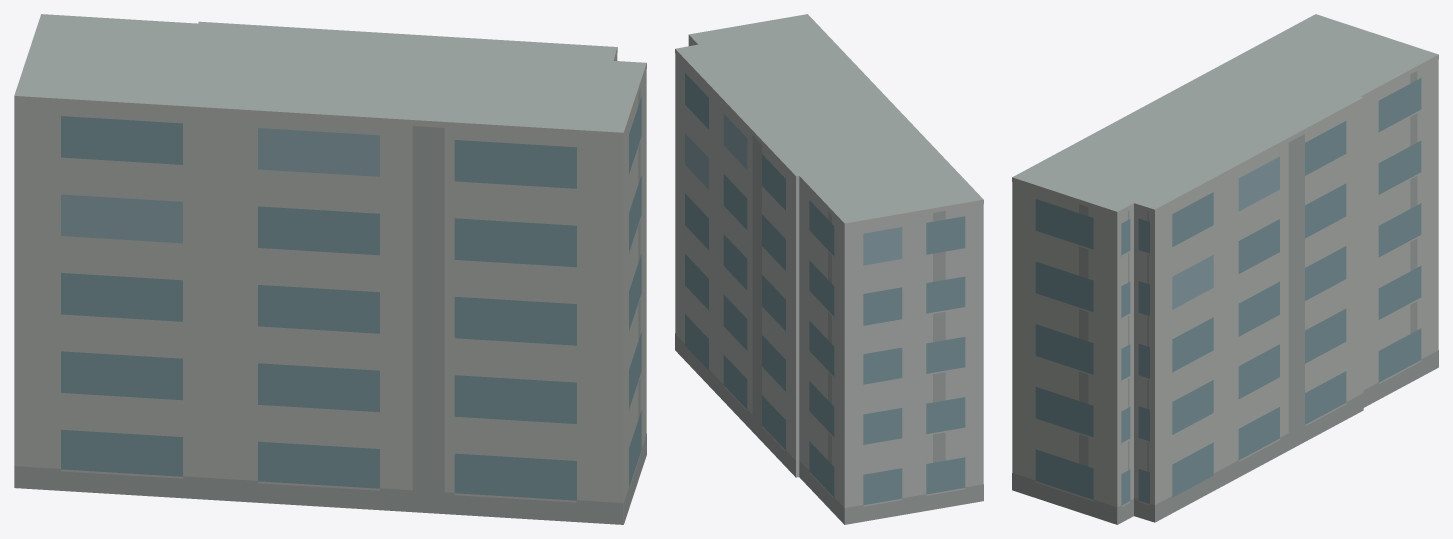
The model's file is survey-upis-33014217.glb.
3 renders of one model, left to right at view 1: azimuth 30°, elevation 25°; view 2: azimuth 150°, elevation 25°; view 3: azimuth 270°, elevation 25°, orthographic. The views are drawn at different scales.
Parts seen in each view (by area): view 1: survey-upis-33014217.tmp; view 2: survey-upis-33014217.tmp; view 3: survey-upis-33014217.tmp.
Boxes of the visible parts, bbox=[...] form: survey-upis-33014217.tmp: bbox=[14, 14, 646, 524]; survey-upis-33014217.tmp: bbox=[675, 14, 983, 524]; survey-upis-33014217.tmp: bbox=[1012, 14, 1438, 524].
Size of the model in its own units: 21.57 by 15.9 by 19.65.
